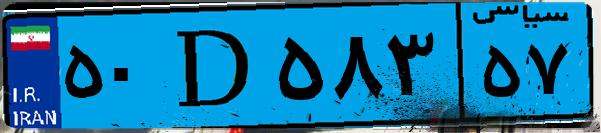0: (110, 28, 158, 98)
3: (385, 28, 445, 110)
5: (270, 28, 330, 110), (57, 26, 110, 100), (475, 38, 525, 113)
7: (525, 38, 570, 115)
8: (330, 28, 385, 110)
D: (158, 12, 270, 120)
